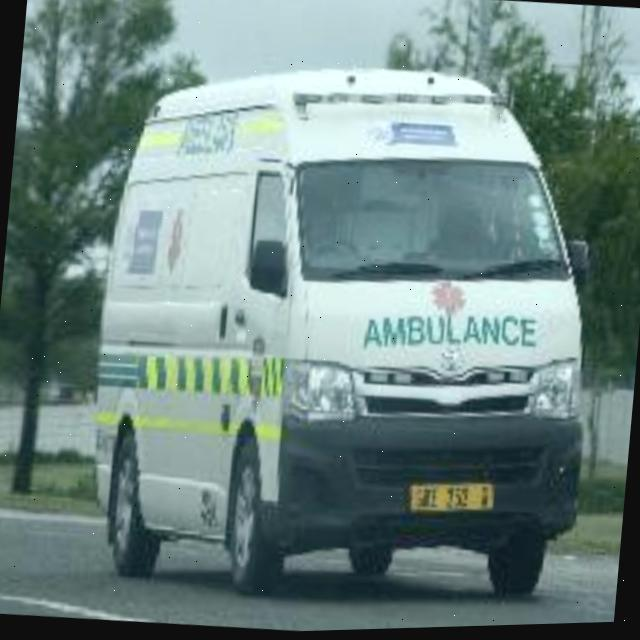emergency: (92, 54, 601, 631)
